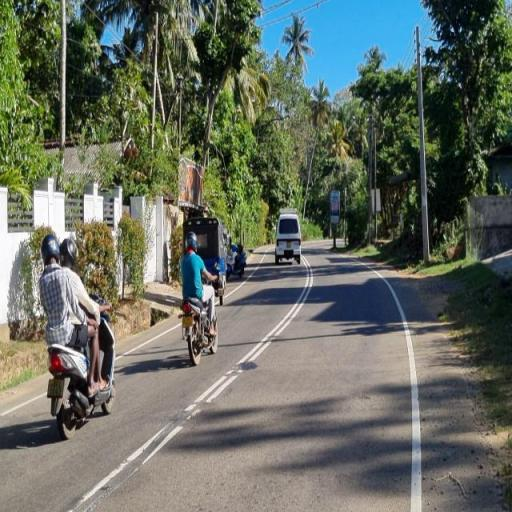double_white_line: (189, 258, 310, 421)
